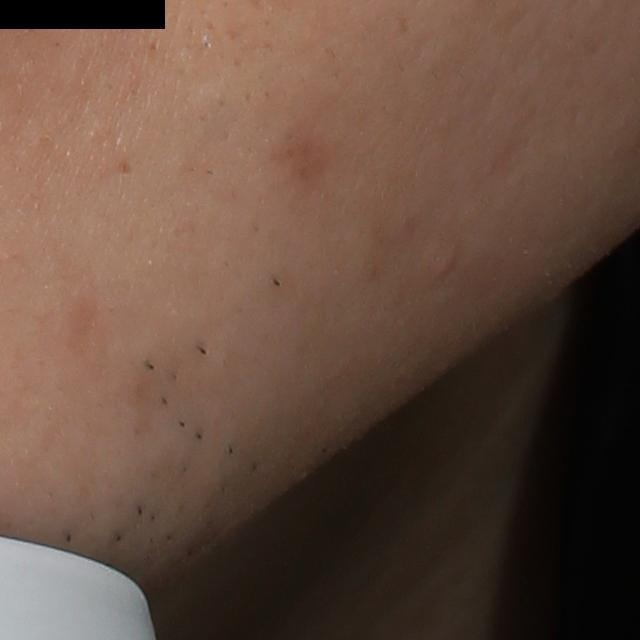papule: (436, 256, 458, 276)
